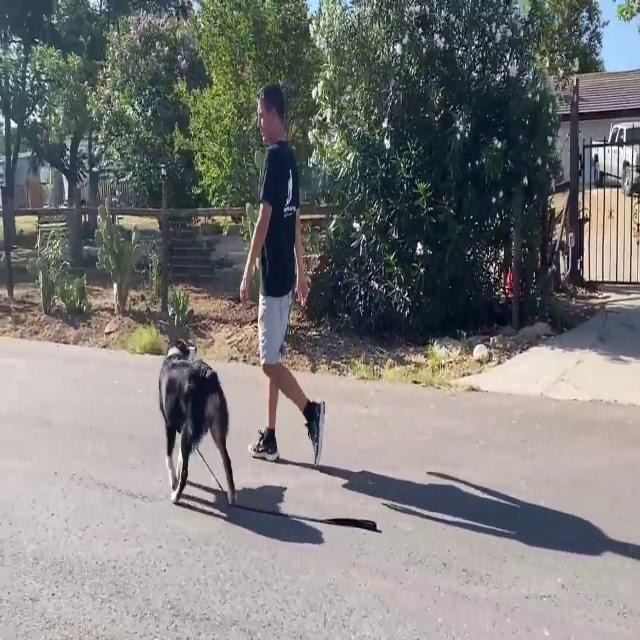Unleashed_Dog: (158, 293, 289, 510)
